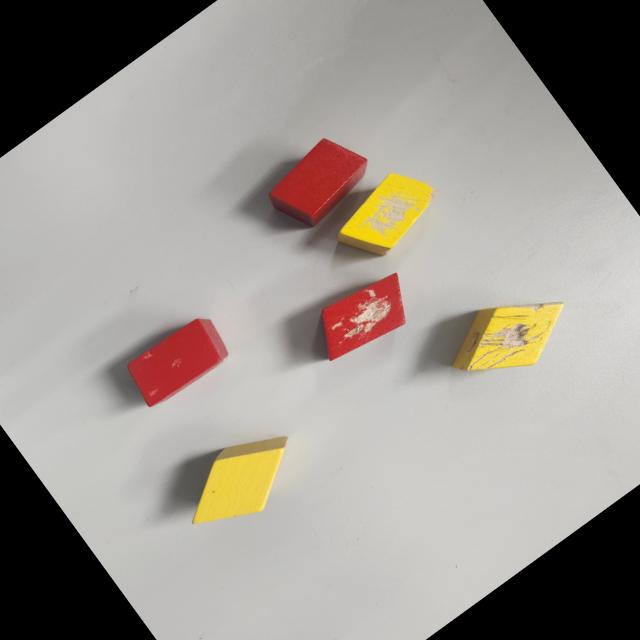broken: (434, 268, 585, 407), (323, 153, 452, 271), (304, 262, 422, 371), (120, 308, 234, 414)
red: (258, 124, 380, 238)
yellow: (166, 411, 316, 549)
